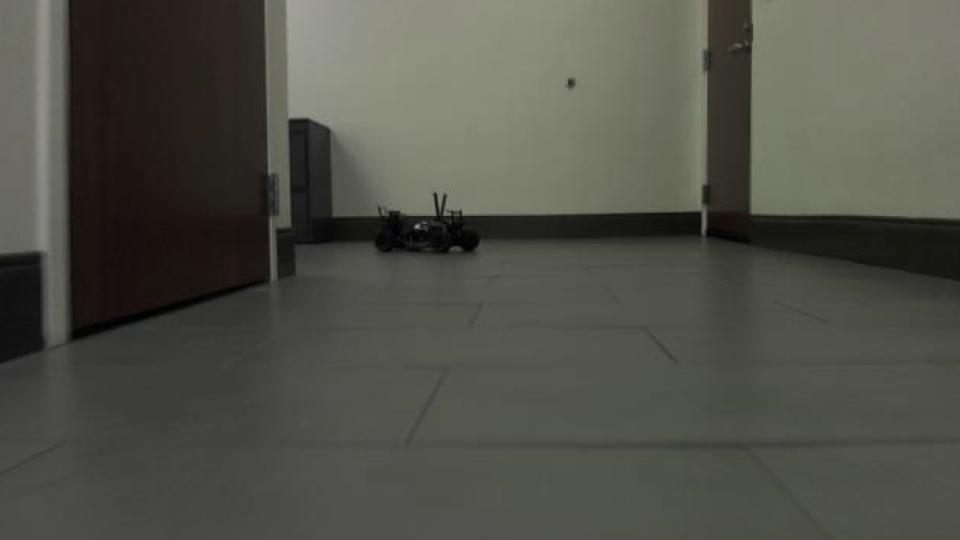car: (372, 190, 485, 258)
